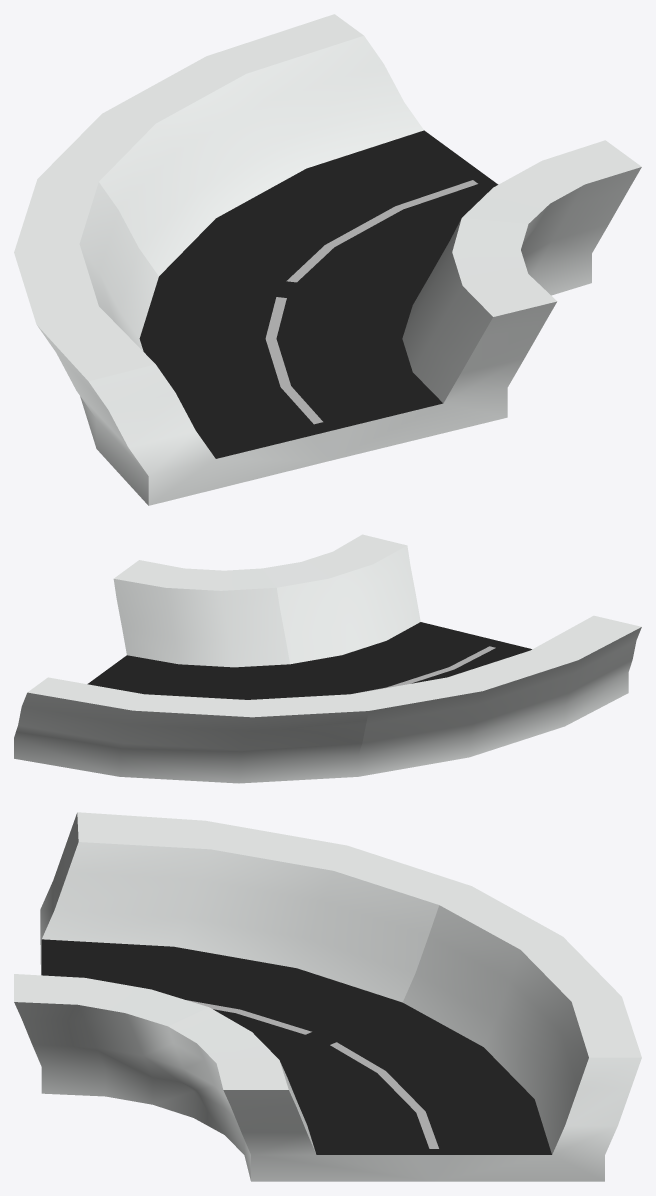
Rendered from duong cong 3.fbx.
3 views of the same model, one above another, from view 1: azimuth 30°, elevation 25°; view 2: azimuth 150°, elevation 25°; view 3: azimuth 270°, elevation 25° (orthographic). The views are drawn at different scales.
Parts seen in each view (by area): view 1: duong_cong_3; view 2: duong_cong_3; view 3: duong_cong_3.
Part boxes in pixels (bbox=[...]): duong_cong_3: bbox=[14, 14, 641, 505]; duong_cong_3: bbox=[14, 534, 641, 783]; duong_cong_3: bbox=[14, 812, 641, 1181].
Bounding box in the file's own units: 33.49 × 6.03 × 31.99.
Materials: 1 (1 with a texture image).
